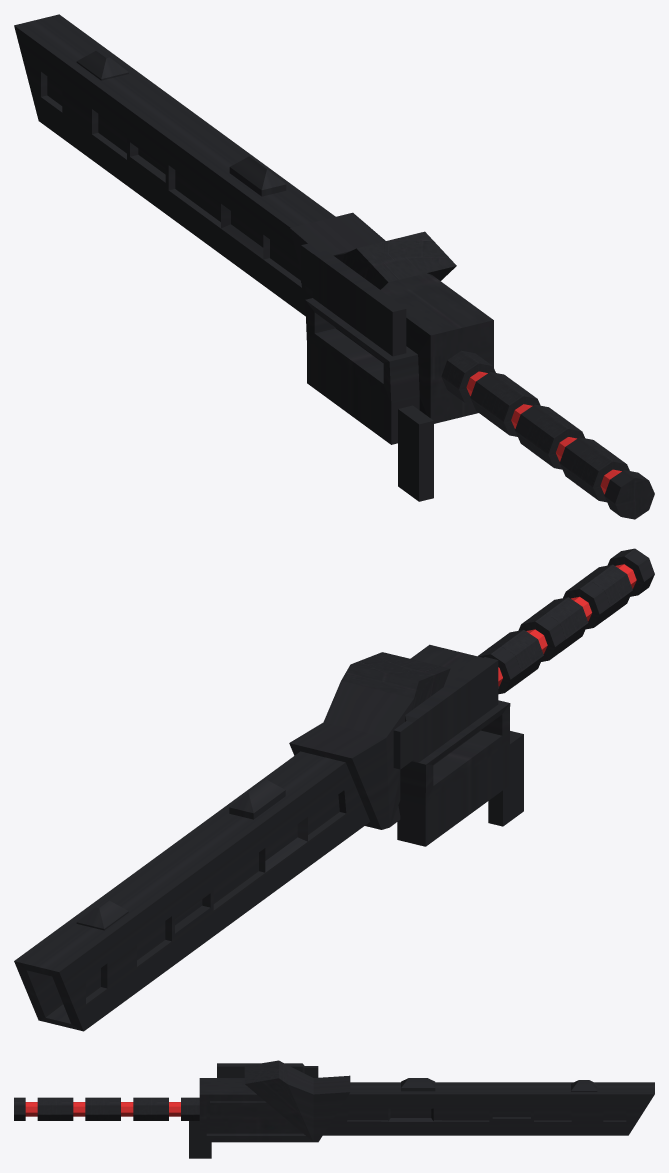
The model's file is RaserCannon.gltf.
3 views of the same model, one above another, from view 1: azimuth 30°, elevation 25°; view 2: azimuth 150°, elevation 25°; view 3: azimuth 270°, elevation 25° (orthographic). The views are drawn at different scales.
Visible parts, largest first — view 1: Cube, 円柱; view 2: Cube, 円柱; view 3: Cube, 円柱.
Boxes of the visible parts, x1=… form: Cube: x1=14, y1=14, x2=493, y2=501; 円柱: x1=441, y1=350, x2=654, y2=519; Cube: x1=14, y1=644, x2=523, y2=1031; 円柱: x1=478, y1=548, x2=654, y2=694; Cube: x1=189, y1=1060, x2=654, y2=1158; 円柱: x1=14, y1=1097, x2=199, y2=1120.
Size of the model in its own units: 0.7571 by 1.36 by 7.93.
Materials: 3 (2 with a texture image).
